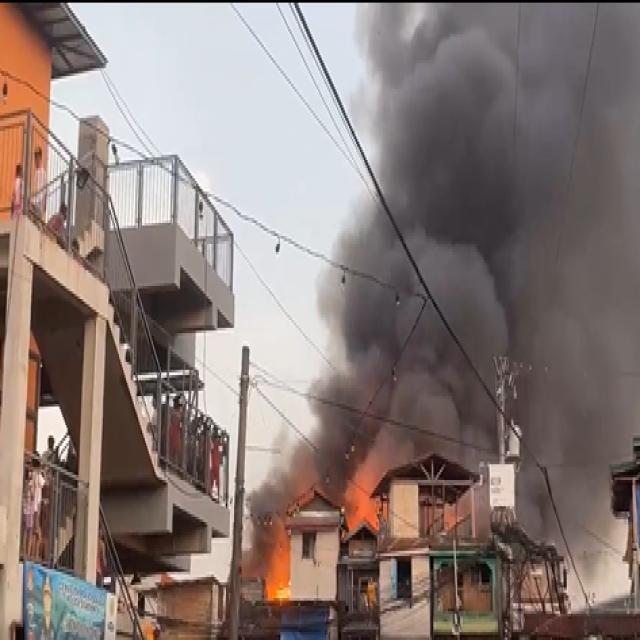Fire: (250, 511, 292, 604), (346, 470, 382, 530)
Smoke: (365, 9, 640, 346), (314, 301, 496, 453), (530, 340, 611, 562)
